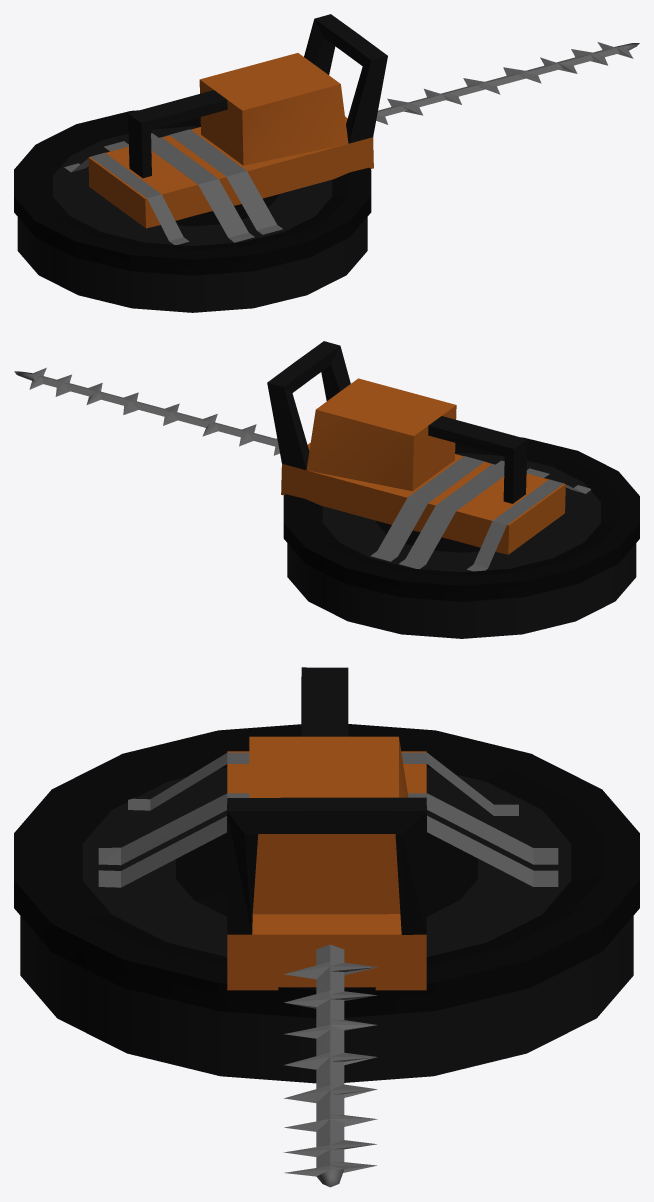
File: RoombaArmada.FBX
3 views of the same model, one above another, from view 1: azimuth 30°, elevation 25°; view 2: azimuth 150°, elevation 25°; view 3: azimuth 270°, elevation 25° (orthographic). The views are drawn at different scales.
Visible parts, largest first — view 1: Roomba; view 2: Roomba; view 3: Roomba.
Part boxes in pixels (box(x1,y1,x2,y2)): Roomba: box(14, 14, 639, 312); Roomba: box(14, 341, 639, 638); Roomba: box(14, 667, 639, 1187).
Bounding box in the file's own units: 1.97 × 0.5034 × 1.
